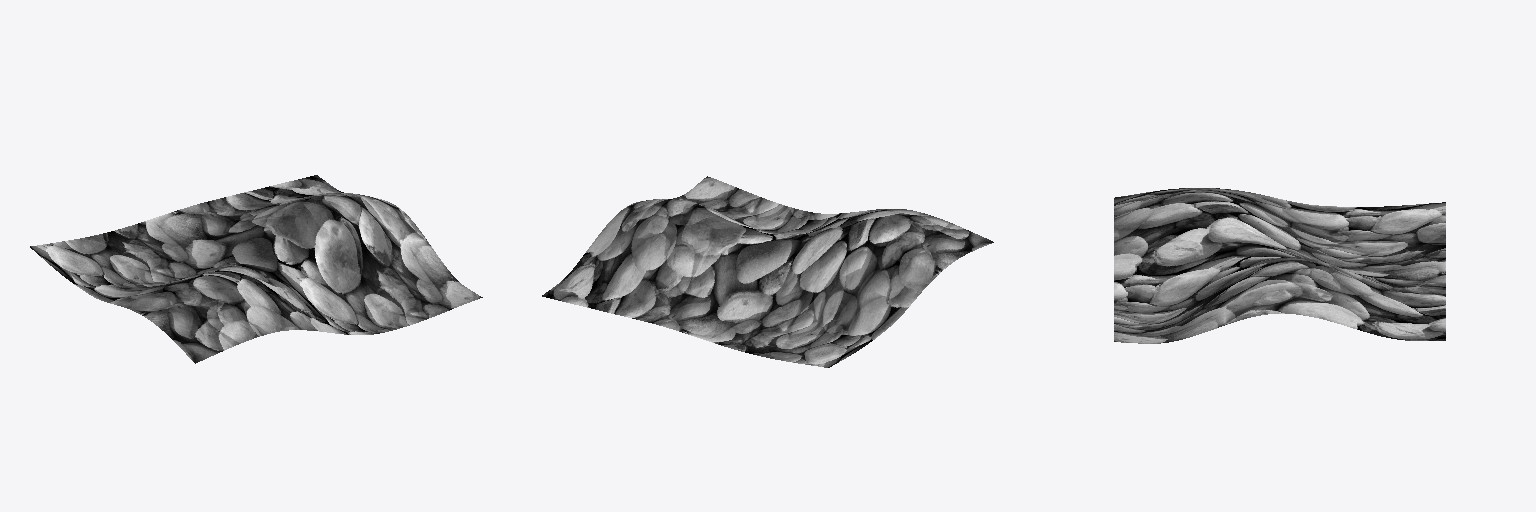
3 views of the same model, side by side, from view 1: azimuth 30°, elevation 25°; view 2: azimuth 150°, elevation 25°; view 3: azimuth 270°, elevation 25° (orthographic).
Visible parts, largest first — view 1: surface; view 2: surface; view 3: surface.
Part boxes in pixels (left/top/right/bottom): surface: left=30, top=175, right=482, bottom=363; surface: left=542, top=176, right=993, bottom=367; surface: left=1114, top=188, right=1445, bottom=343.
Size of the model in its own units: 2 by 0.4236 by 2.
Materials: 1 (1 with a texture image).